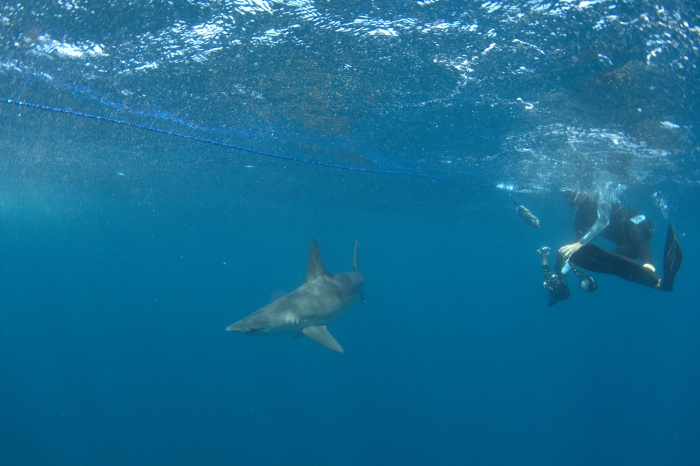Hammer: (194, 223, 373, 371)
